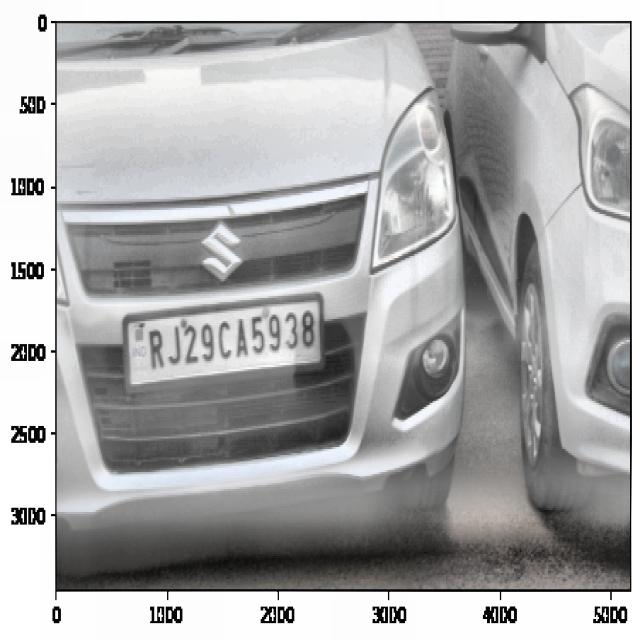license_plate: (143, 301, 320, 374)
